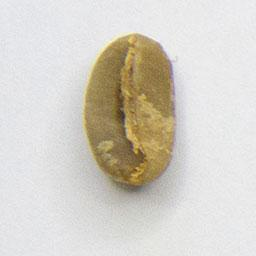longberry: (80, 29, 181, 191)
